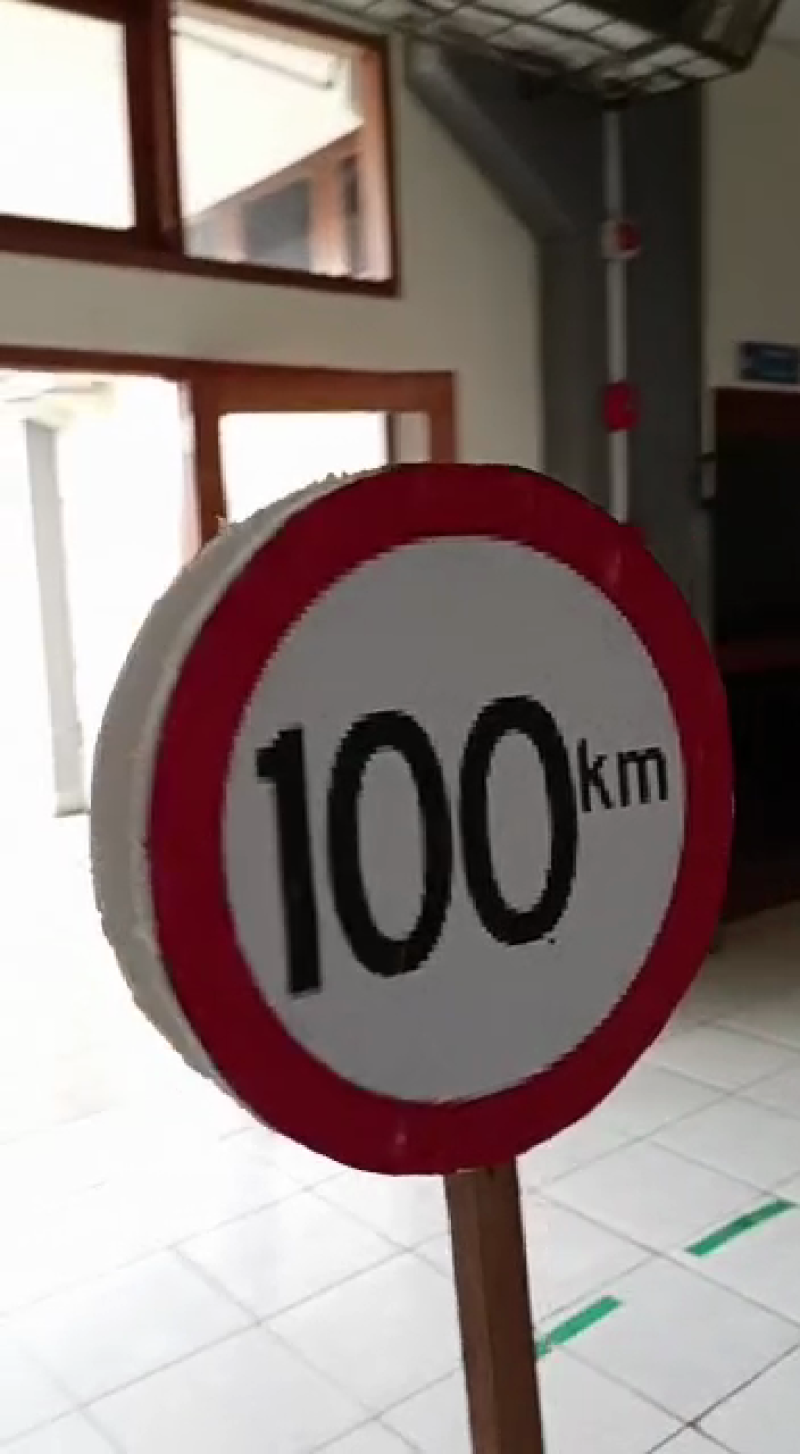batas maksimal 100kmperjam: (127, 447, 742, 1180)
